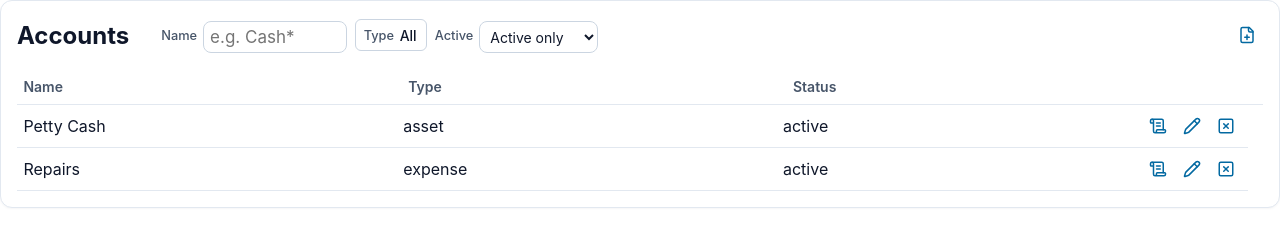
Test: AccountsSection › restricts rows by type selection; clear shows all again
The width and height of the screenshot is (1280, 225).
Click the button with aria-label "Filter accounts by type" at [391, 35], box [355, 19, 427, 51]
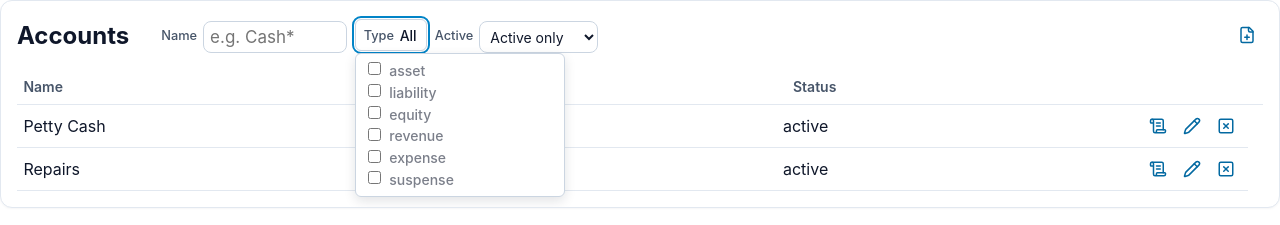
Click the checkbox labelled "expense" at [374, 156], box [368, 150, 381, 163]
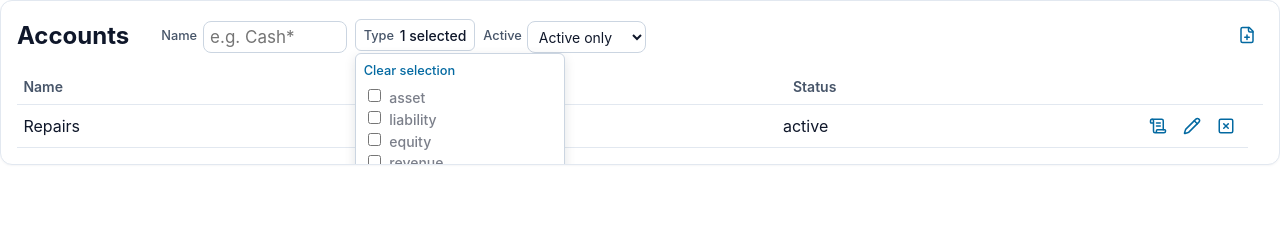
Expected: the text "Repairs" is shown, [17, 105, 397, 147]
Expected: the text "Petty Cash" is gone
Click the button "Clear selection" at [460, 72], box [364, 60, 556, 83]
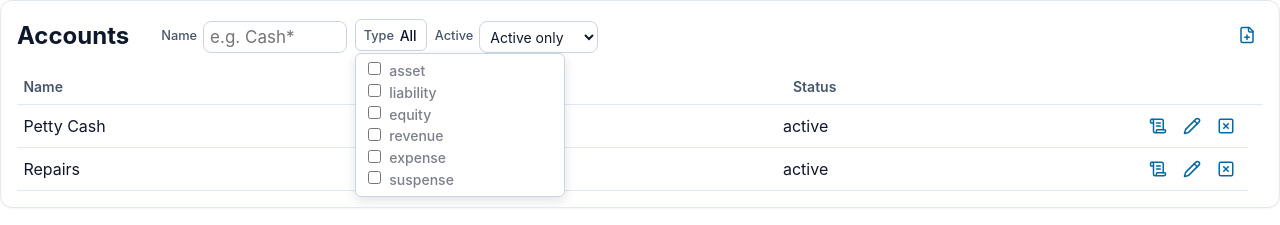
Expected: the text "Repairs" is shown, [17, 148, 397, 190]
Expected: the text "Petty Cash" is shown, [17, 105, 397, 147]
